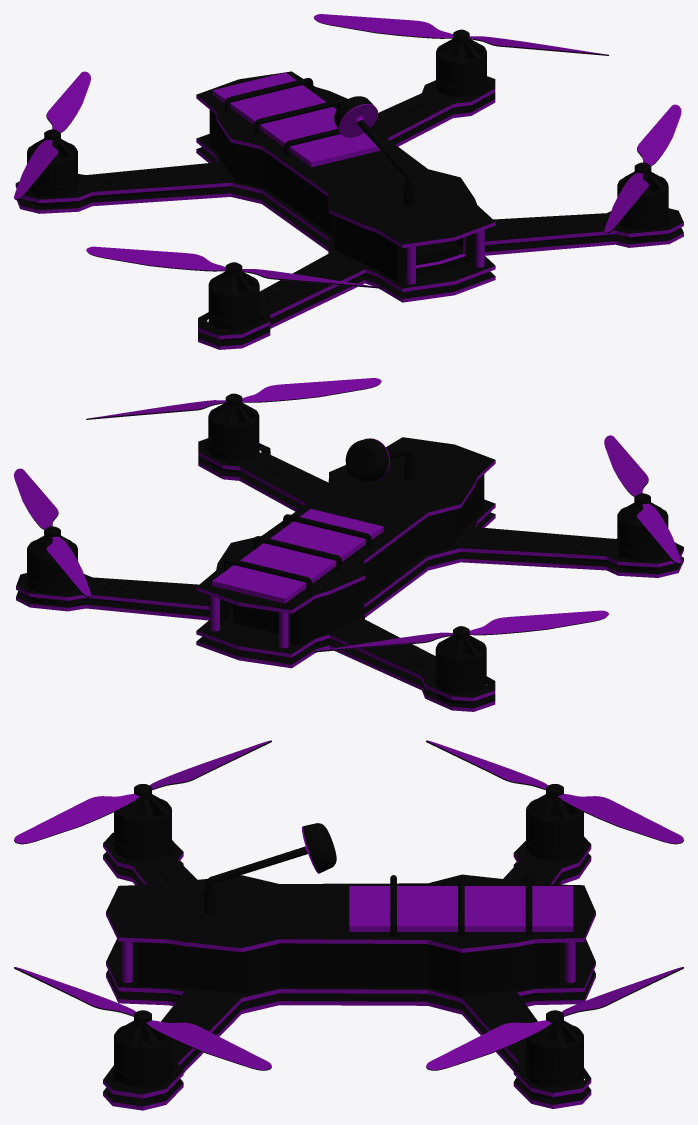
The model's file is Drone.fbx.
The picture shows the model from 3 angles, top to bottom: view 1: azimuth 30°, elevation 25°; view 2: azimuth 150°, elevation 25°; view 3: azimuth 270°, elevation 25°; orthographic projection. The views are drawn at different scales.
Visible parts, largest first — view 1: Corpus, Corpus.001, BatteryLevel1, Stena, PP, ZL, PL, ZP, EnginePP, EngineZL, AntennaLevel1, EnginePL (+7 smaller); view 2: Corpus, Corpus.001, BatteryLevel1, Stena, PL, ZP, PP, ZL, EnginePL, EngineZP, AntennaLevel1, EnginePP (+6 smaller); view 3: Corpus, Corpus.001, Stena, BatteryLevel1, PL, ZL, PP, ZP, EnginePL, EngineZL, EngineZP, EnginePP (+6 smaller).
Part boxes in pixels (x1,y1,x2,y2): Corpus: (15, 76, 683, 349); Corpus.001: (196, 71, 495, 248); BatteryLevel1: (212, 72, 380, 167); Stena: (209, 110, 475, 281); PP: (86, 246, 381, 288); ZL: (313, 14, 608, 55); PL: (604, 104, 681, 233); ZP: (14, 71, 90, 200); EnginePP: (208, 271, 259, 320); EngineZL: (436, 39, 486, 87); AntennaLevel1: (334, 96, 413, 205); EnginePL: (617, 171, 668, 220); Corpus: (16, 438, 683, 711); Corpus.001: (196, 437, 495, 613); BatteryLevel1: (212, 509, 383, 603); Stena: (209, 474, 484, 645); PL: (86, 378, 381, 419); ZP: (313, 610, 608, 652); PP: (604, 435, 681, 564); ZL: (14, 468, 90, 597); EnginePL: (208, 403, 259, 451); EngineZP: (435, 635, 486, 684); AntennaLevel1: (345, 438, 413, 482); EnginePP: (617, 502, 668, 551); Corpus: (103, 832, 595, 1110); Corpus.001: (106, 874, 595, 952); Stena: (137, 942, 559, 995); BatteryLevel1: (349, 875, 573, 936); PL: (14, 967, 271, 1070); ZL: (426, 967, 683, 1070); PP: (14, 740, 271, 844); ZP: (426, 740, 683, 844); EnginePL: (114, 1020, 171, 1076); EngineZL: (526, 1020, 583, 1076); EngineZP: (526, 794, 583, 849); EnginePP: (114, 794, 171, 849).
Size of the model in its own units: 347 by 76.36 by 299.
